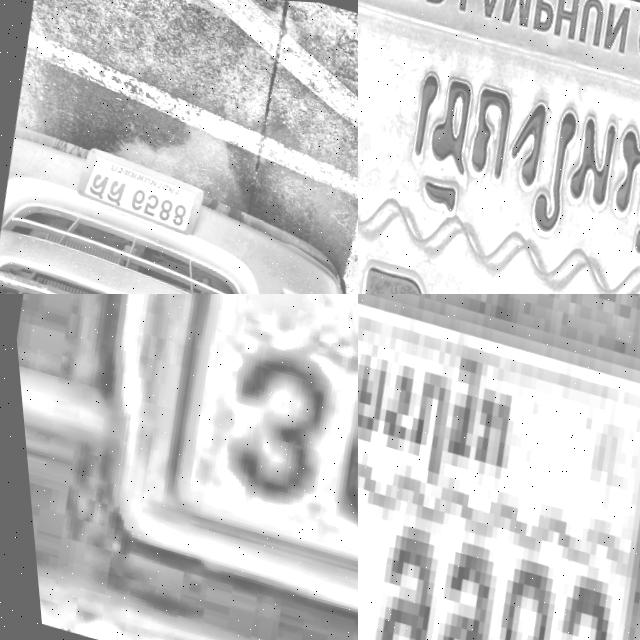license-plate: (21, 294, 358, 640), (358, 294, 640, 640), (358, 0, 640, 294), (62, 137, 207, 241)
